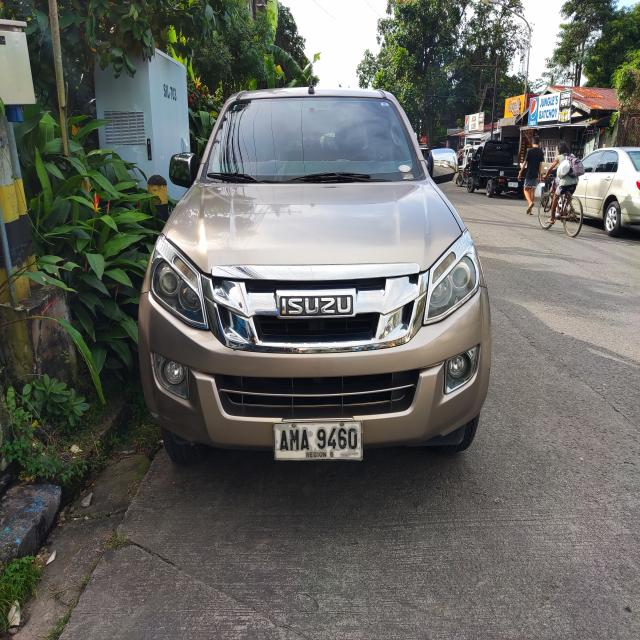plate: (272, 419, 364, 462)
